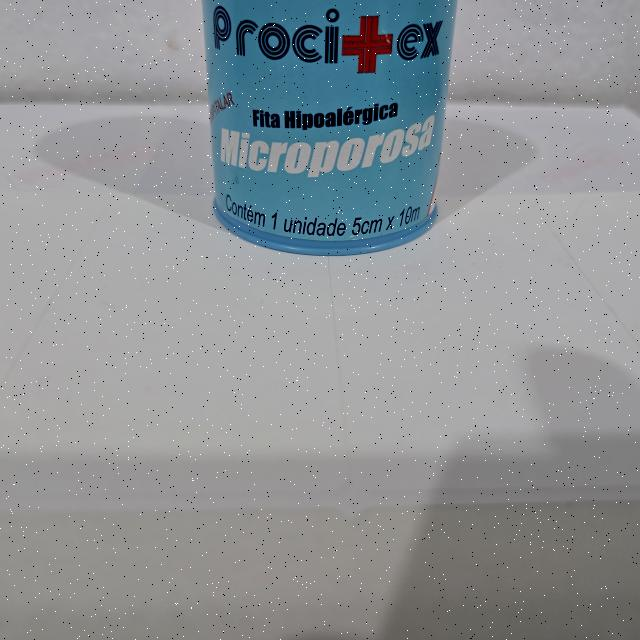procitex: (199, 0, 463, 261)
